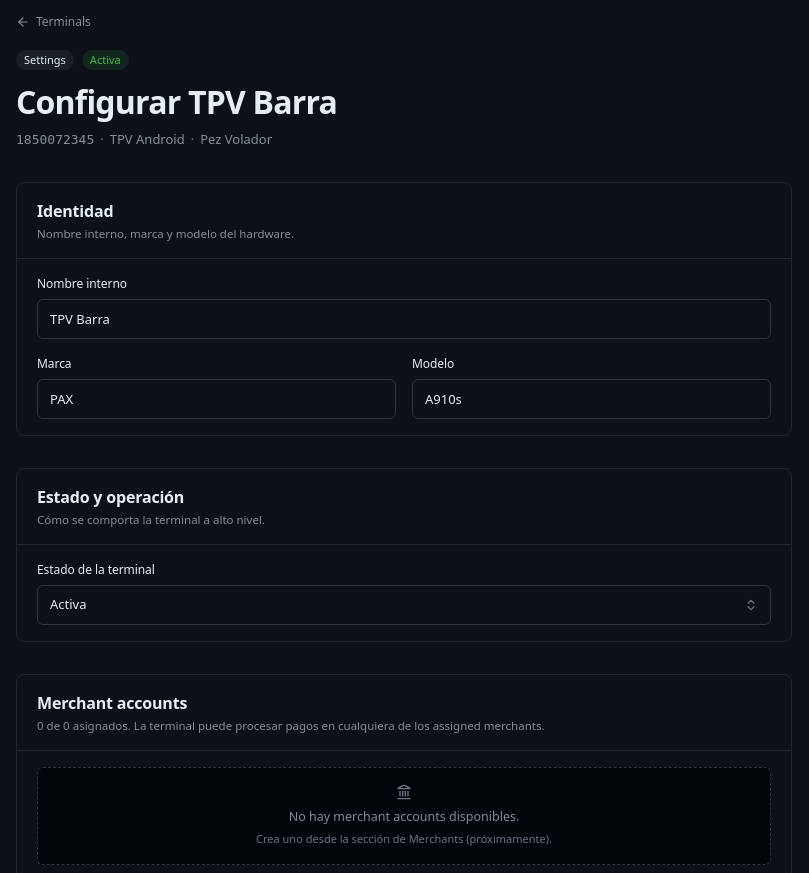
Scenario: TerminalSettingsPage › marca la sección "Identidad" como dirty al modificar el nombre
expect the heading "Configurar TPV Barra" is shown: met, box [16,80,337,123]
Type "TPV Renombrado" into the field with placeholder "TPV Barra". click: (404, 319)
box: [37,299,771,339]
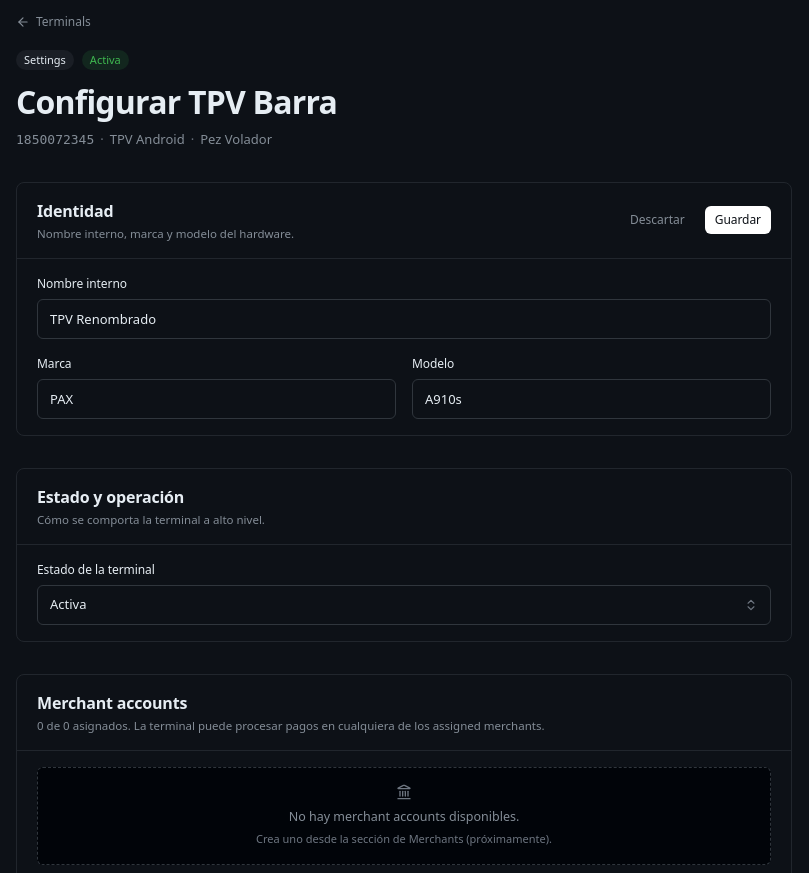
expect the button "Guardar" is shown: met, box [705,206,771,234]
